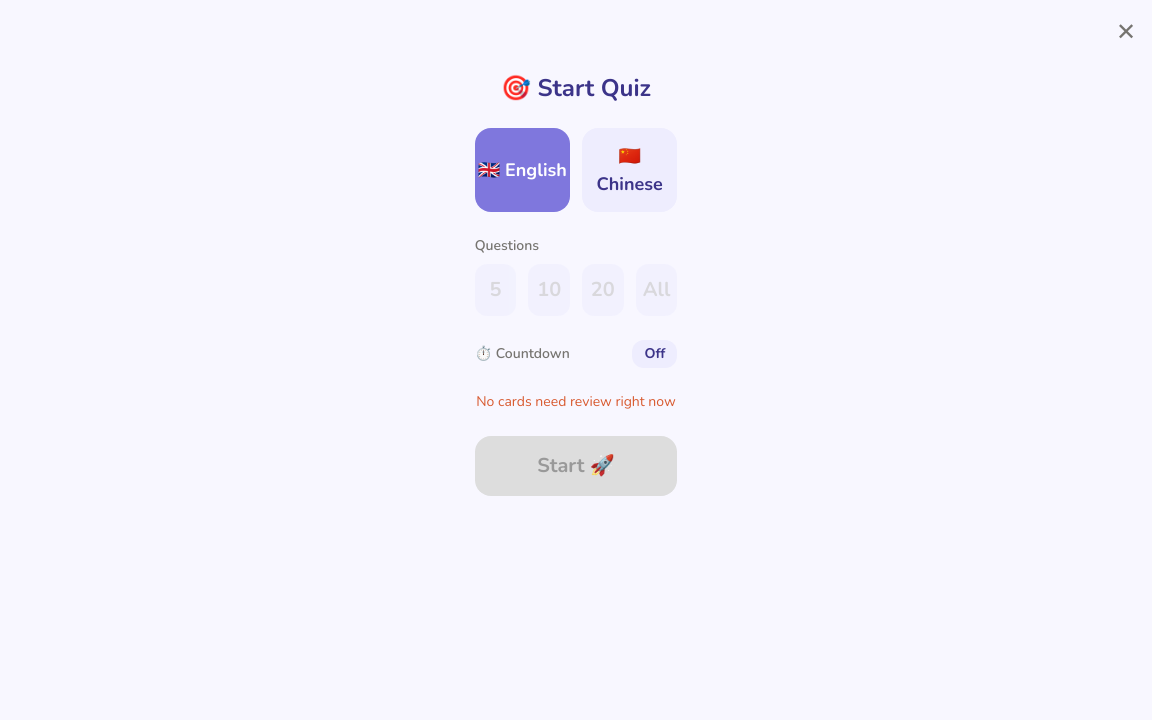
Scenario: QuizMode — Lobby › enables Start for future-scheduled cards because default quiz reviews all cards
The image size is (1152, 720).
Click the button "🇨🇳 Chinese". click: click(630, 170)
box: [582,128,677,212]
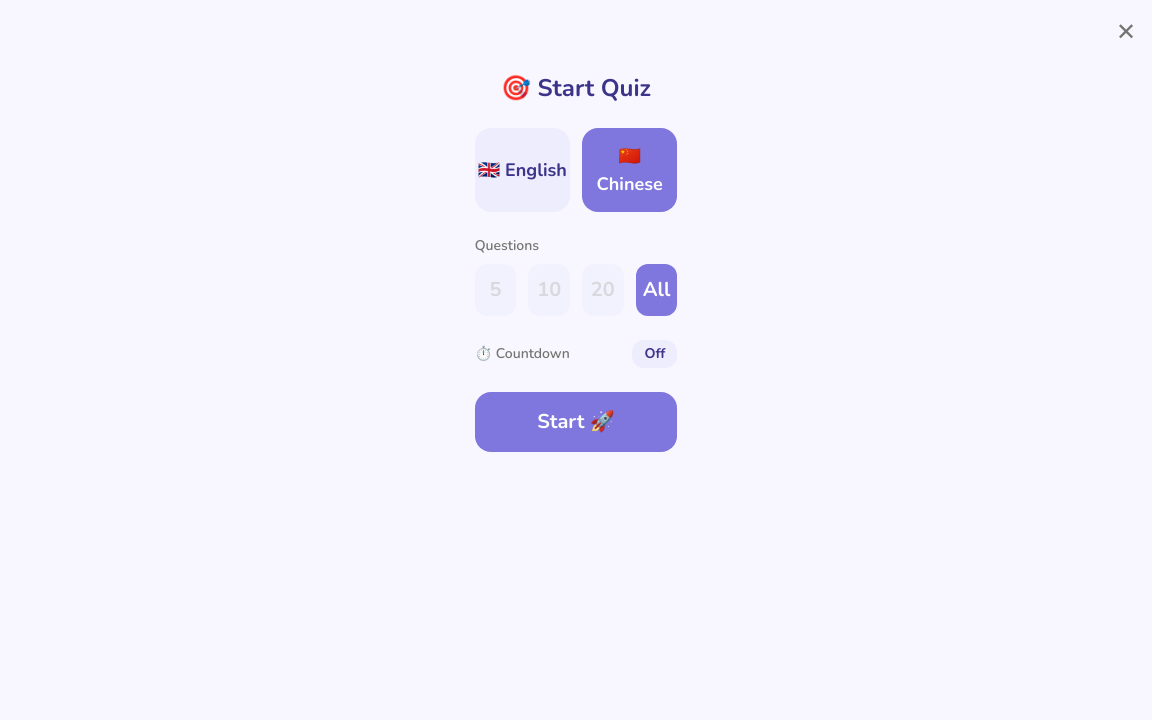
Result: the button "All" is enabled at [636,264,677,316]
Result: the button "Start 🚀" is enabled at [475,392,677,452]
